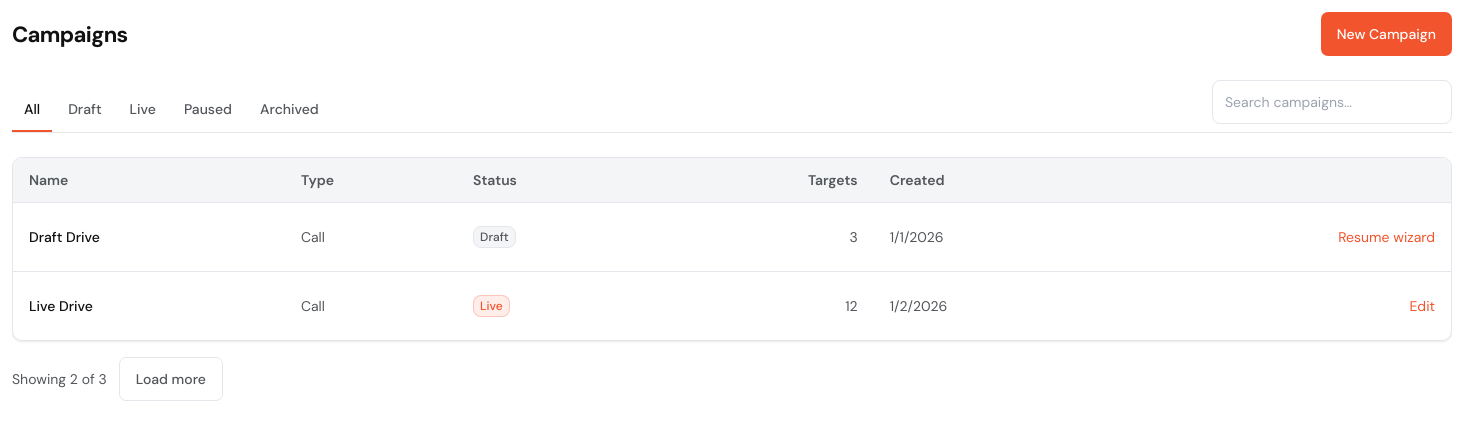
Test: Campaigns — paging › reports the shown count and appends the next page
Expected: the text "Showing 2 of 3" is shown, [12,369,107,389]
Click the button "Load more" at coordinates (171, 379), box [119,357,223,401]
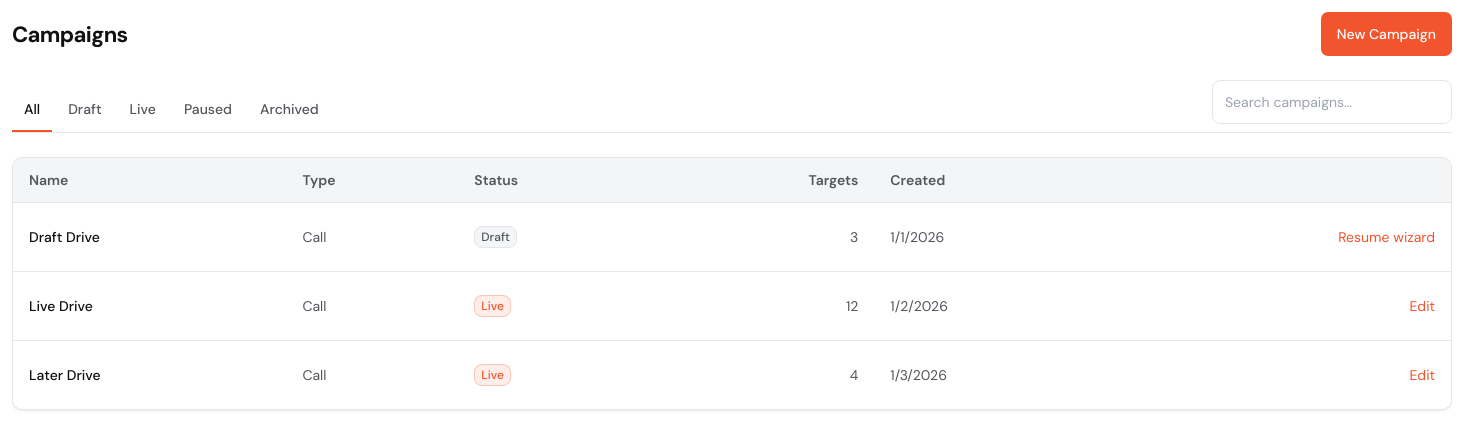
Expected: the number of rows is 4, [13,158,1451,202]; [13,202,1451,272]; [13,272,1451,340]; [13,340,1451,409]
Expected: the text "Later Drive" is shown 2 times
Expected: the button "Load more" is gone
